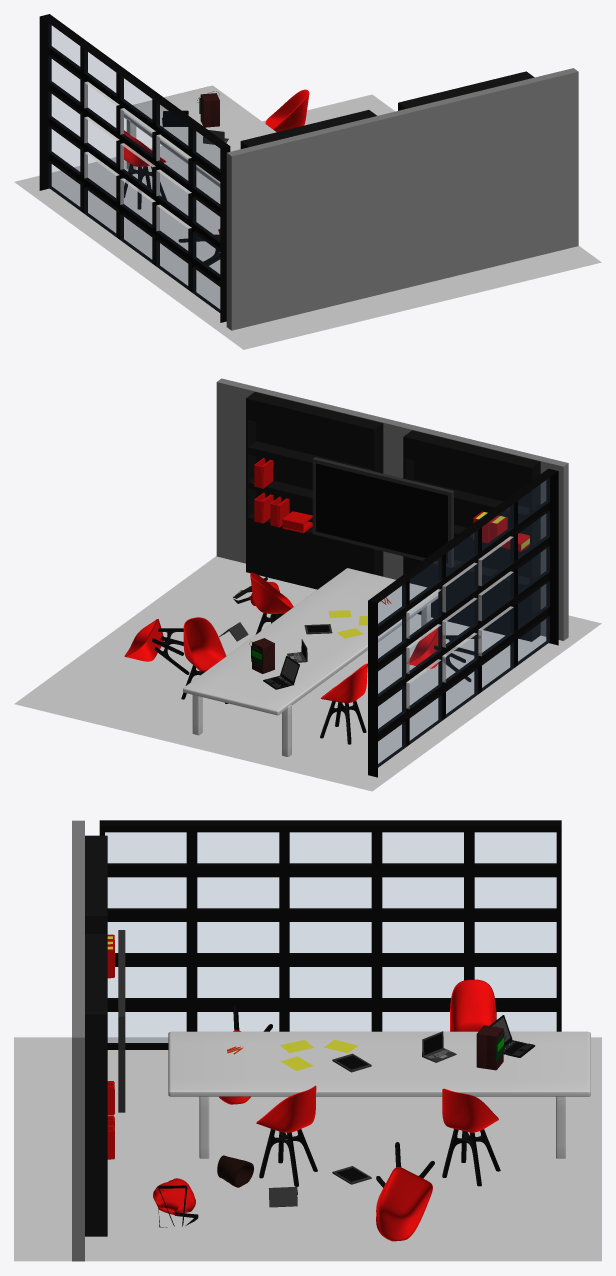
Rendered from Oficina.fbx.
3 views of the same model, one above another, from view 1: azimuth 30°, elevation 25°; view 2: azimuth 150°, elevation 25°; view 3: azimuth 270°, elevation 25° (orthographic). The views are drawn at different scales.
Parts seen in each view (by area): view 1: Mesh (4), Cube.4.2, SillaTop, Mesh (2); view 2: Mesh (4), Cube.4.2, SillaTop, Mesh (2), SillaTop (2), SillaTop (3), SillaTop (5), Patas (3), Mesh; view 3: Mesh (4), Cube.4.2, SillaTop (3), Mesh (2), SillaTop, SillaTop (2), Patas (2), Patas, Stand 1, Mesh, Stand 2.
Boxes of the visible parts, left/top/right/bottom form: Mesh (4): left=14, top=14, right=601, bottom=349; Cube.4.2: left=124, top=85, right=276, bottom=187; SillaTop: left=265, top=89, right=309, bottom=131; Mesh (2): left=124, top=130, right=166, bottom=209; Mesh (4): left=14, top=378, right=601, bottom=791; Cube.4.2: left=183, top=568, right=438, bottom=715; SillaTop: left=183, top=617, right=226, bottom=671; Mesh (2): left=320, top=663, right=367, bottom=744; SillaTop (2): left=250, top=572, right=293, bottom=613; SillaTop (3): left=124, top=619, right=163, bottom=661; SillaTop (5): left=407, top=627, right=444, bottom=668; Patas (3): left=152, top=628, right=189, bottom=674; Mesh: left=263, top=656, right=299, bottom=689; Mesh (4): left=14, top=820, right=601, bottom=1261; Cube.4.2: left=168, top=1031, right=590, bottom=1096; SillaTop (3): left=376, top=1167, right=432, bottom=1241; Mesh (2): left=450, top=979, right=496, bottom=1031; SillaTop: left=442, top=1088, right=498, bottom=1132; SillaTop (2): left=256, top=1085, right=316, bottom=1132; Patas (2): left=259, top=1129, right=317, bottom=1186; Patas: left=442, top=1128, right=500, bottom=1186; Stand 1: left=199, top=1096, right=209, bottom=1158; Mesh: left=489, top=1015, right=535, bottom=1057; Stand 2: left=556, top=1096, right=565, bottom=1158.
Bounding box in the file's own units: 1002 × 476 × 1112.
